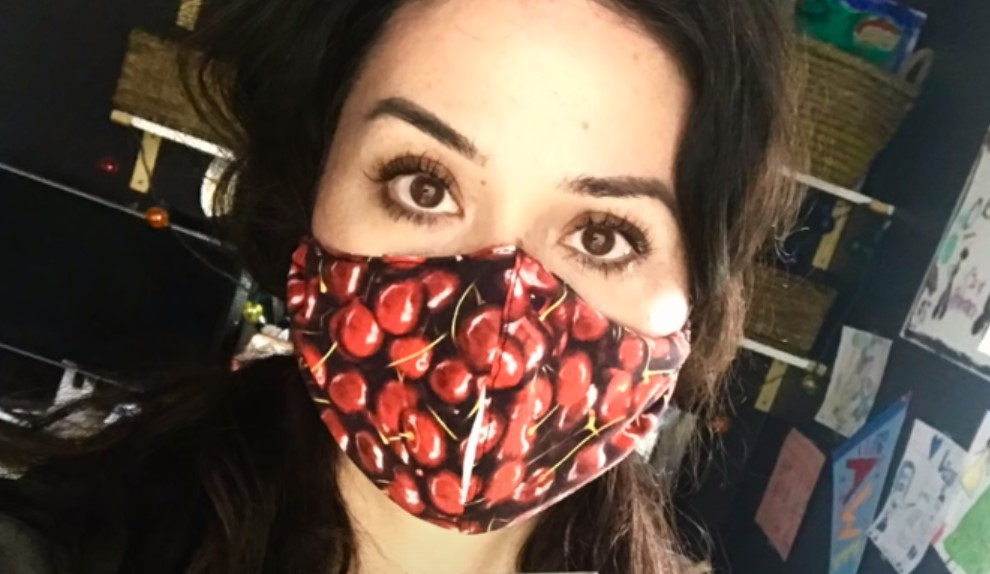face_with_mask: (275, 5, 722, 534)
